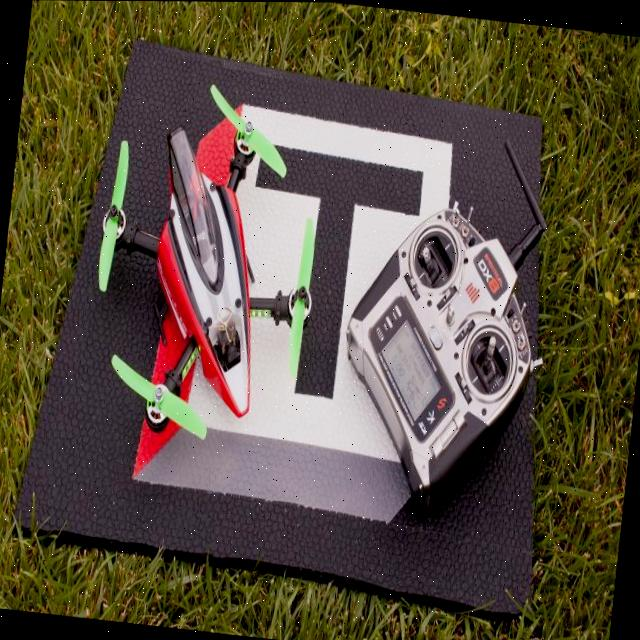drone: (56, 87, 357, 474)
